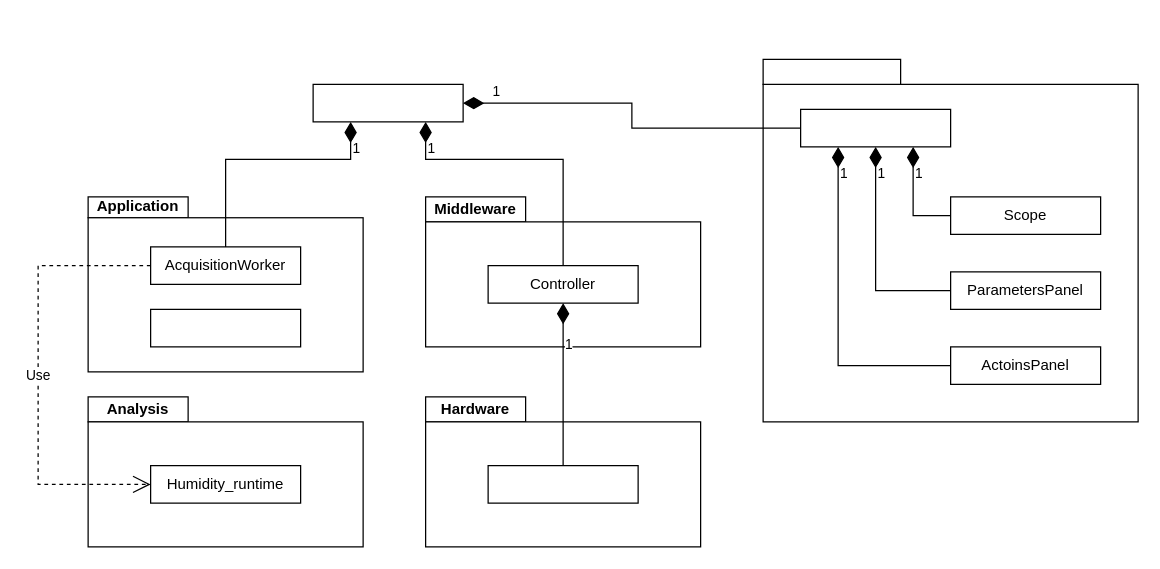
Image size: 1160x569. Some labels were removed from this diagram. Here are the shapes that lost their labels. From the top down, the centre of each, then its label:
the point at 831,71: User_interface
the point at 387,102: main
the point at 875,127: Window
the point at 225,327: AppConfig
the point at 562,483: AD3
